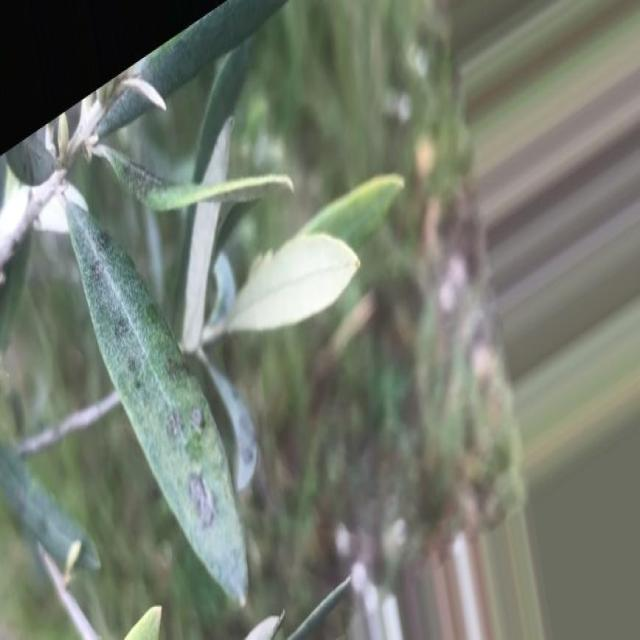OlivePeacockSpot: (64, 200, 247, 604)
